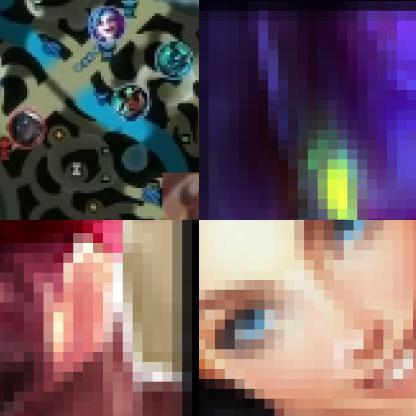Hecarim: (154, 38, 197, 80)
Jinx: (86, 4, 126, 44)
Karma: (111, 88, 152, 124)
Khaundefinedzix: (199, 0, 415, 219)
Lee Sin: (0, 220, 198, 415)
Lux: (199, 220, 415, 415)
Senna: (8, 111, 45, 148)
